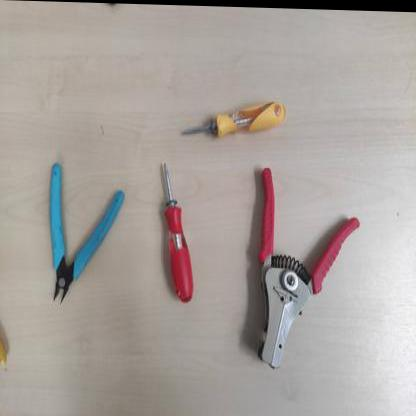Screwdriverrotation: (158, 156, 196, 303), (178, 94, 286, 140)
